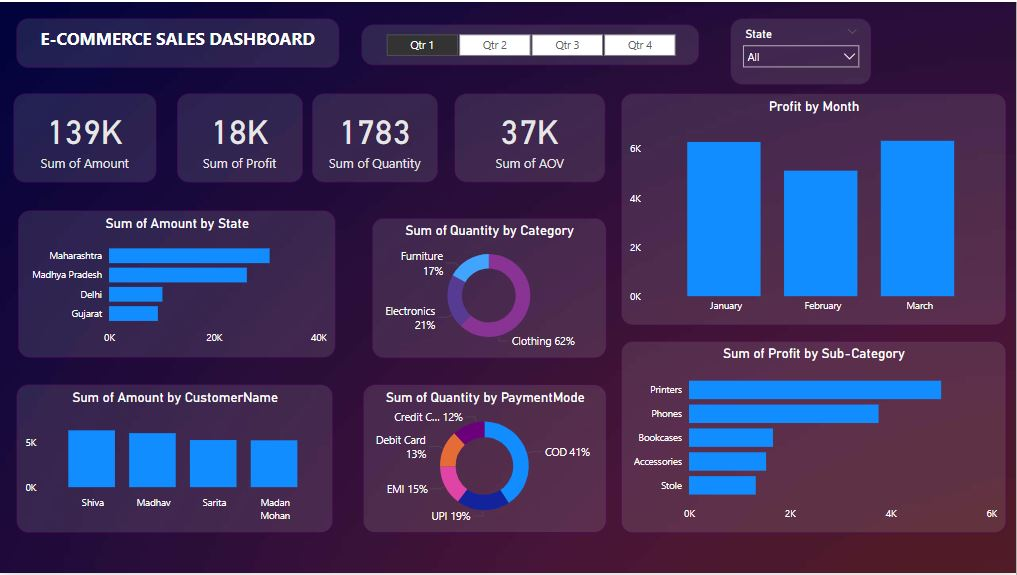

What the dashboard file says about the page in this screenshot:
{"tool":"powerbi","page":{"name":"Page 1","canvas":[1280,720],"ordinal":0},"visuals":[{"type":"textbox","box":[21.7,21.7,406.7,61.7],"z":0},{"type":"columnChart","title":"Profit by Month","fields":{"Y":["Details.Profit"],"Category":["Orders.Order Date.Variation.Date Hierarchy.Month"]},"box":[781.7,115,485,291.7],"z":1000},{"type":"barChart","fields":{"Category":["Details.Sub-Category"],"Y":["Details.Profit"]},"box":[781.7,426.7,485,241.7],"z":2000},{"type":"donutChart","fields":{"Category":["Details.Category"],"Y":["Details.Quantity"]},"box":[468.3,271.7,295,176.7],"z":3000},{"type":"donutChart","fields":{"Y":["Details.Quantity"],"Category":["Details.PaymentMode"]},"box":[456.7,481.7,306.7,186.7],"z":4000},{"type":"card","fields":{"Values":["Details.Amount"]},"box":[16.7,115,180,111.7],"z":5000},{"type":"card","fields":{"Values":["Details.Profit"]},"box":[223.3,115,158.3,111.7],"z":6000},{"type":"card","fields":{"Values":["Details.Quantity"]},"box":[393.3,115,158.3,111.7],"z":7000},{"type":"card","fields":{"Values":["Details.AOV"]},"box":[573.3,115,190,111.7],"z":8000},{"type":"barChart","fields":{"Category":["Orders.State"],"Y":["Details.Amount"]},"box":[23.3,263.3,400,185],"z":9000},{"type":"columnChart","fields":{"Category":["Orders.CustomerName"],"Y":["Details.Amount"]},"box":[21.7,481.7,398.3,186.7],"z":10000},{"type":"slicer","fields":{"Values":["Orders.Order Date.Variation.Date Hierarchy.Quarter"]},"box":[455.4,28.3,425.2,51],"z":11000},{"type":"slicer","fields":{"Values":["Orders.State"]},"box":[920.3,20.8,177.6,83.2],"z":11001}]}

Visuals, with their boxes in screenshot pixels (x1, y1, x2, y2), scaled from the page's 1280x720 canvas onto the 1017x575 screenshot:
textbox: 17/17/340/67
"Profit by Month" columnChart: 621/92/1006/325
barChart - Details.Sub-Category x Details.Profit: 621/341/1006/534
donutChart - Details.Category x Details.Quantity: 372/217/606/358
donutChart - Details.Quantity x Details.PaymentMode: 363/385/607/534
card - Details.Amount: 13/92/156/181
card - Details.Profit: 177/92/303/181
card - Details.Quantity: 312/92/438/181
card - Details.AOV: 456/92/606/181
barChart - Orders.State x Details.Amount: 19/210/336/358
columnChart - Orders.CustomerName x Details.Amount: 17/385/334/534
slicer - Orders.Order Date.Variation.Date Hierarchy.Quarter: 362/23/700/63
slicer - Orders.State: 731/17/872/83
